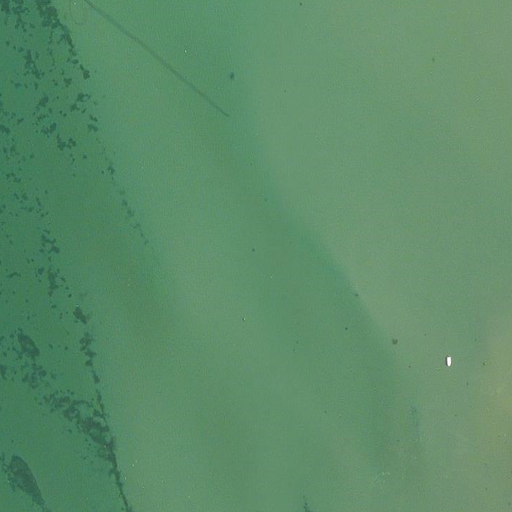ship: (445, 356, 453, 369)
